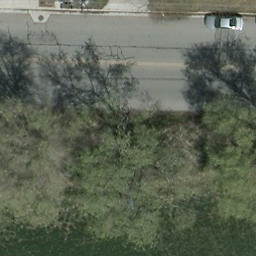car: (203, 14, 245, 32)
